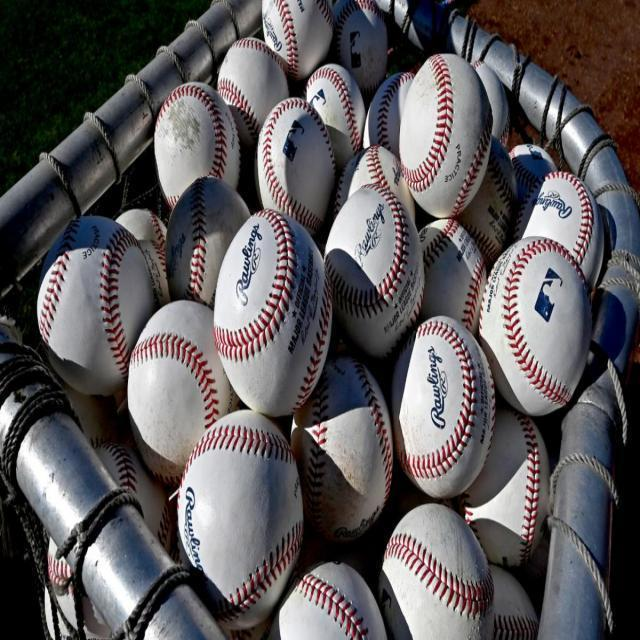sports ball: (175, 406, 305, 632), (212, 208, 336, 420), (475, 233, 593, 417), (325, 186, 427, 360), (398, 52, 496, 220), (255, 95, 339, 237)
